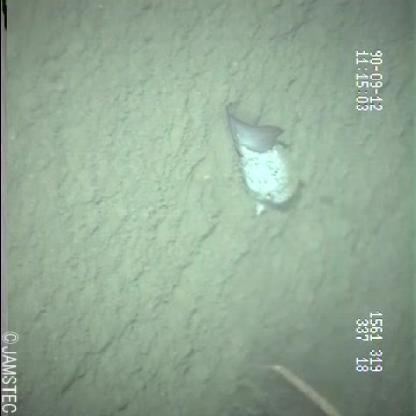Bio: (215, 98, 323, 233)
